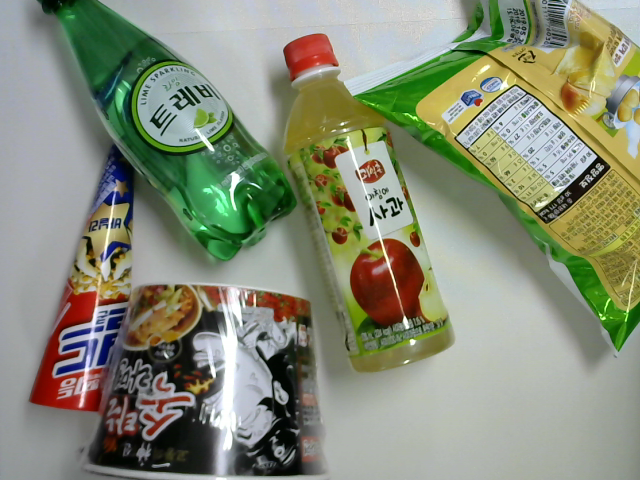HeJangsock: (81, 278, 338, 480)
Morning_Apple_500ml: (271, 28, 470, 378)
Pocachip_Onion: (331, 1, 639, 366)
Treviraim_500ml: (25, 1, 306, 265)
World_Cone_Banila: (23, 106, 147, 426)
